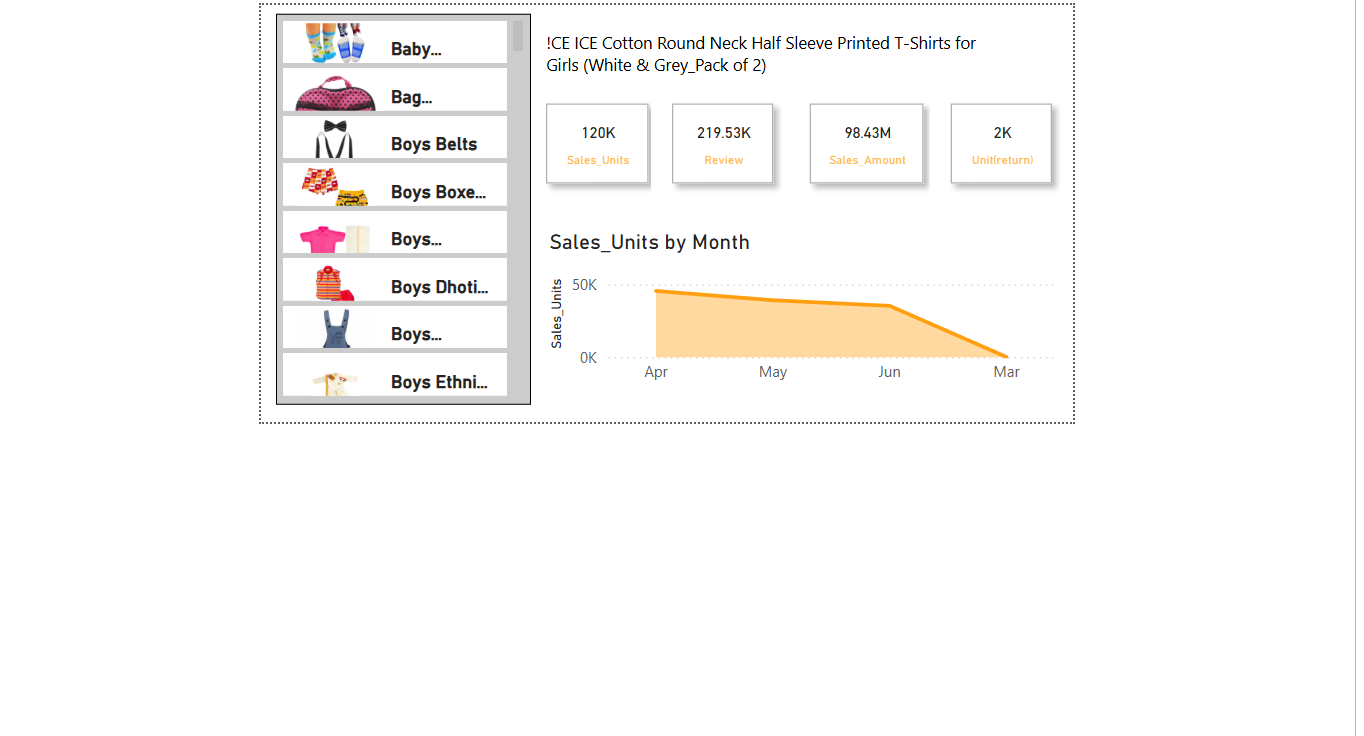

Layout of this report page (visuals, bound fields, positions):
{"tool":"powerbi","page":{"name":"Product_Tooltip","canvas":[650,334],"ordinal":3},"visuals":[{"type":"cardVisual","box":[2051,0,1115,320],"z":1000},{"type":"advancedSlicerVisual","fields":{"Values":["amazon-fashion - YT.Category"]},"box":[12,7,204,313],"z":2000},{"type":"shape","box":[216,7,373,64],"z":3000},{"type":"cardVisual","fields":{"Data":["Amazon.Sales_Amount"]},"box":[427,62,115,98],"z":4000},{"type":"cardVisual","fields":{"Data":["Amazon.Sales_Units"]},"box":[216,62,115,98],"z":5000},{"type":"cardVisual","fields":{"Data":["Amazon.Review"]},"box":[312,62,115,98],"z":6000},{"type":"cardVisual","fields":{"Data":["Amazon.Sales_Units"]},"box":[535,62,115,98],"z":7000},{"type":"areaChart","fields":{"Y":["Amazon.Sales_Units"],"Category":["Amazon.Month"]},"box":[226,179,413,133],"z":8000}]}

Visuals, with their boxes on the page's 650x334 design canvas (x1, y1, x2, y2). These are canvas units, not pixel positions in the 1364x736 screenshot, which may show the page scaled, cropped or inside an application window:
cardVisual: [2051,0,3166,320]
advancedSlicerVisual - amazon-fashion - YT.Category: [12,7,216,320]
shape: [216,7,589,71]
cardVisual - Amazon.Sales_Amount: [427,62,542,160]
cardVisual - Amazon.Sales_Units: [216,62,331,160]
cardVisual - Amazon.Review: [312,62,427,160]
cardVisual - Amazon.Sales_Units: [535,62,650,160]
areaChart - Amazon.Sales_Units x Amazon.Month: [226,179,639,312]
